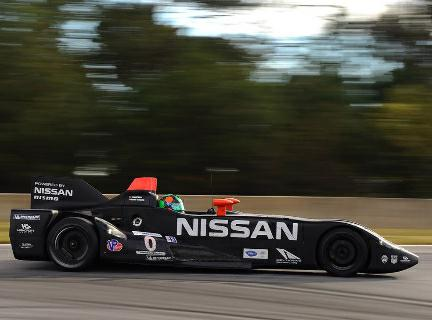日产-DeltaWing: (8, 169, 421, 278)
